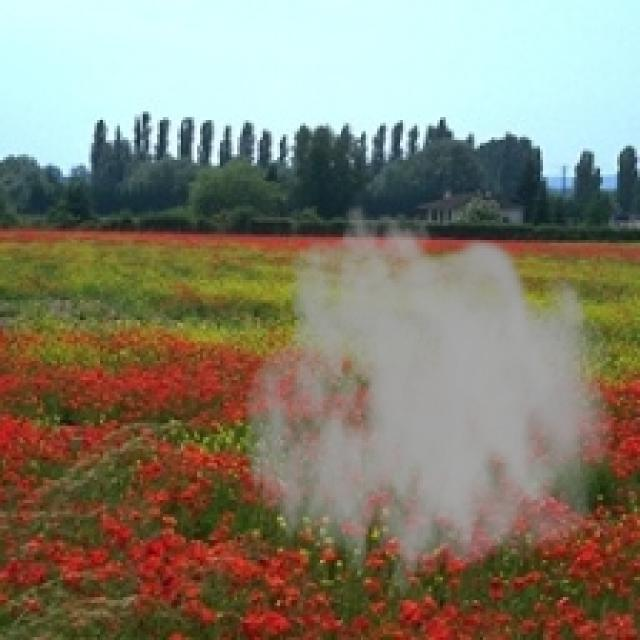Smoke: (242, 203, 614, 620)
